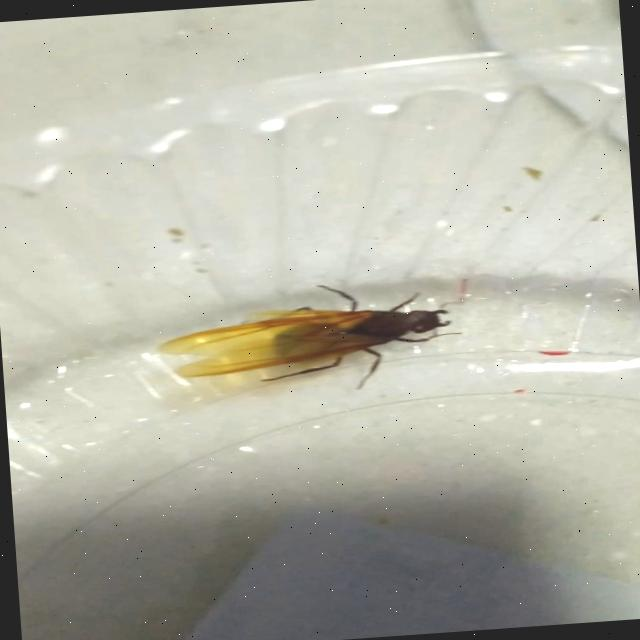Alive-Female-Alate: (151, 274, 466, 404)
